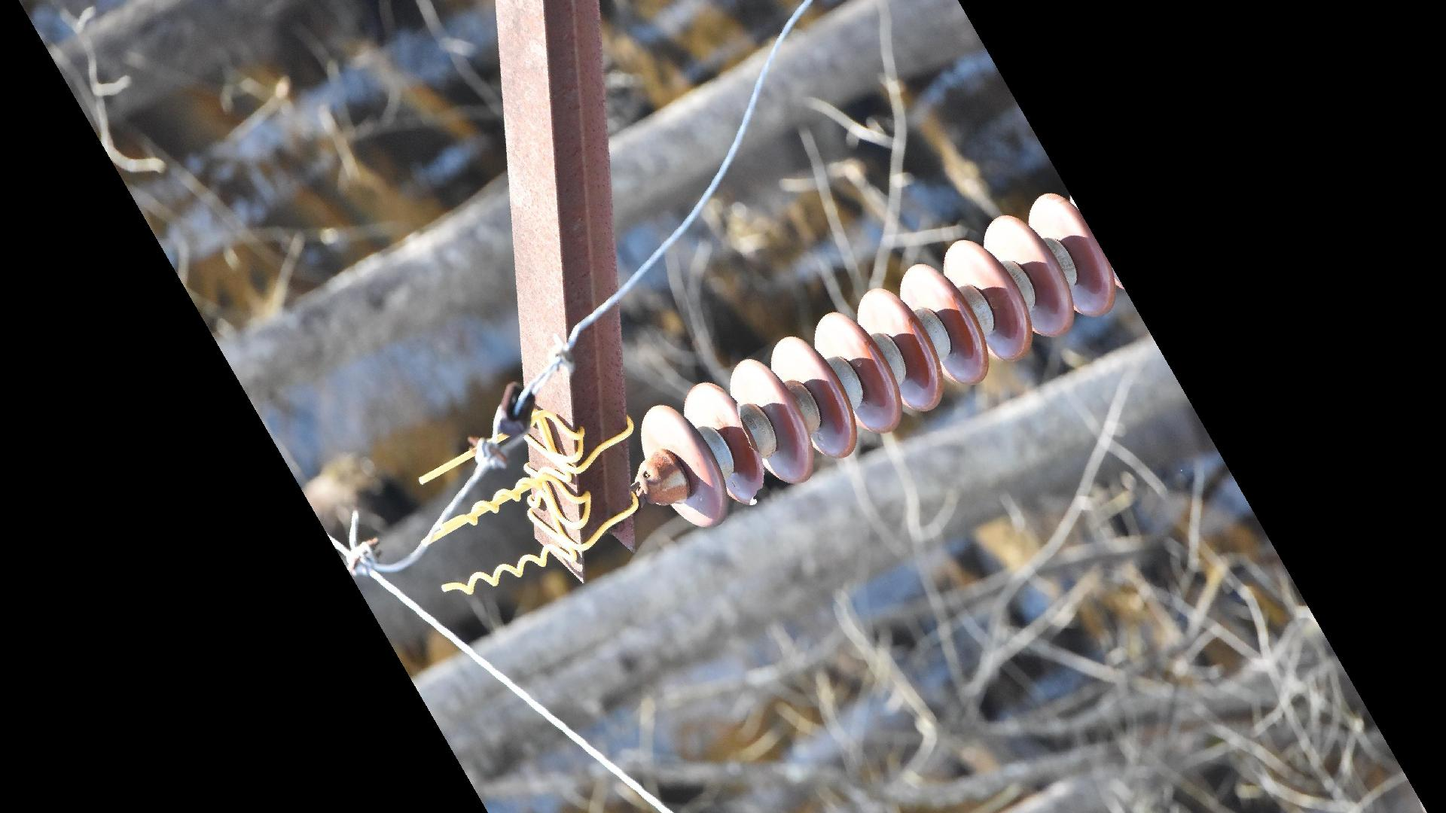insulator: (634, 188, 1121, 534)
insulator_breakage: (728, 395, 765, 512)
